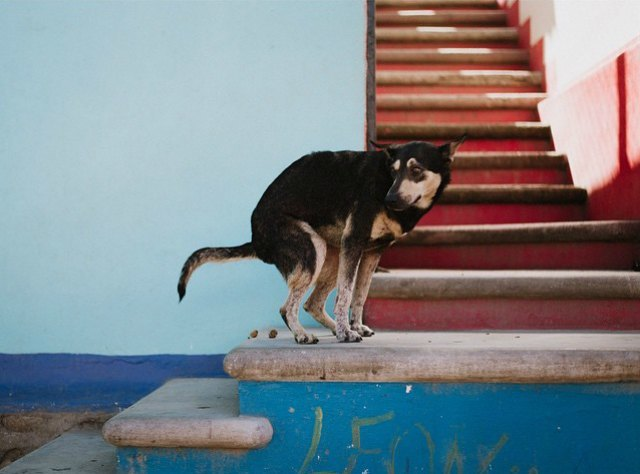dog_pooping: (174, 131, 469, 356)
